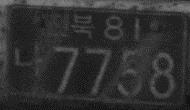1: (132, 16, 142, 43)
5: (117, 48, 144, 98)
7: (83, 47, 112, 97), (52, 46, 80, 96)
8: (149, 51, 175, 99), (104, 15, 123, 41)
나: (13, 43, 44, 79)
전북_O: (46, 12, 93, 40)
